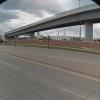Bridge: (3, 2, 98, 41)
